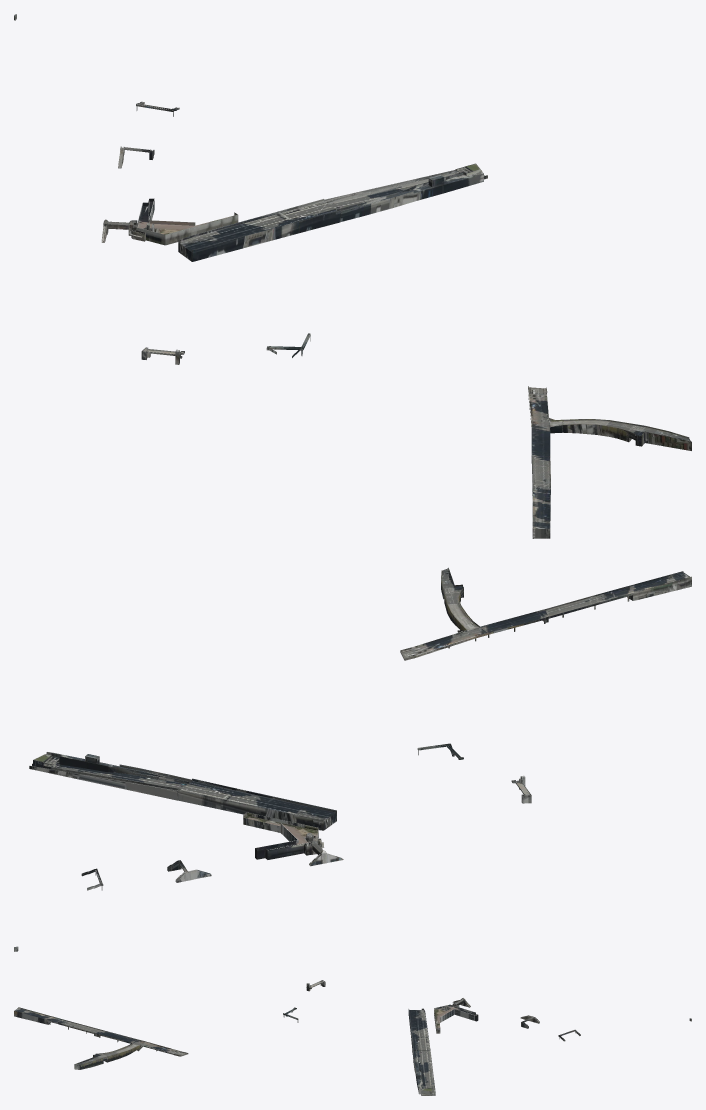
File: data4.glb
3 views of the same model, one above another, from view 1: azimuth 30°, elevation 25°; view 2: azimuth 150°, elevation 25°; view 3: azimuth 270°, elevation 25° (orthographic). The views are drawn at different scales.
Bounding box in the file's own units: 416 × 40.42 × 1035.
2 materials, 1 textured.
